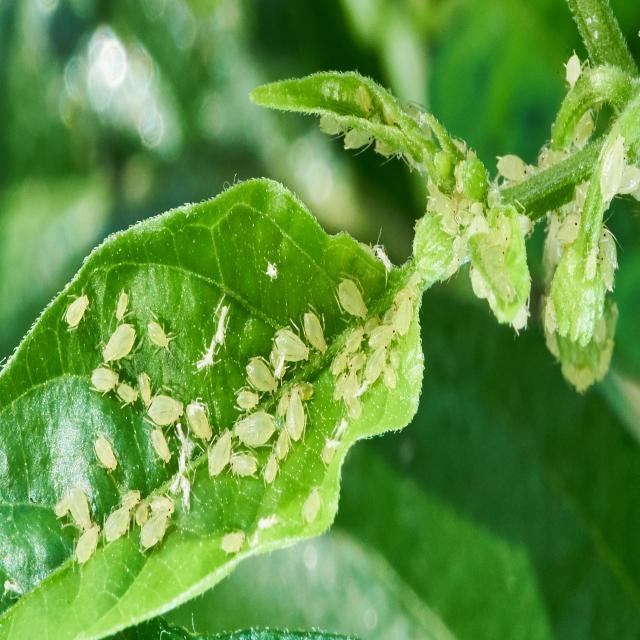Aphids: (331, 263, 376, 334), (182, 366, 217, 451), (270, 311, 312, 370), (96, 318, 142, 370), (55, 279, 94, 340), (88, 428, 127, 483), (146, 302, 179, 364), (147, 385, 186, 435), (206, 422, 237, 483)
